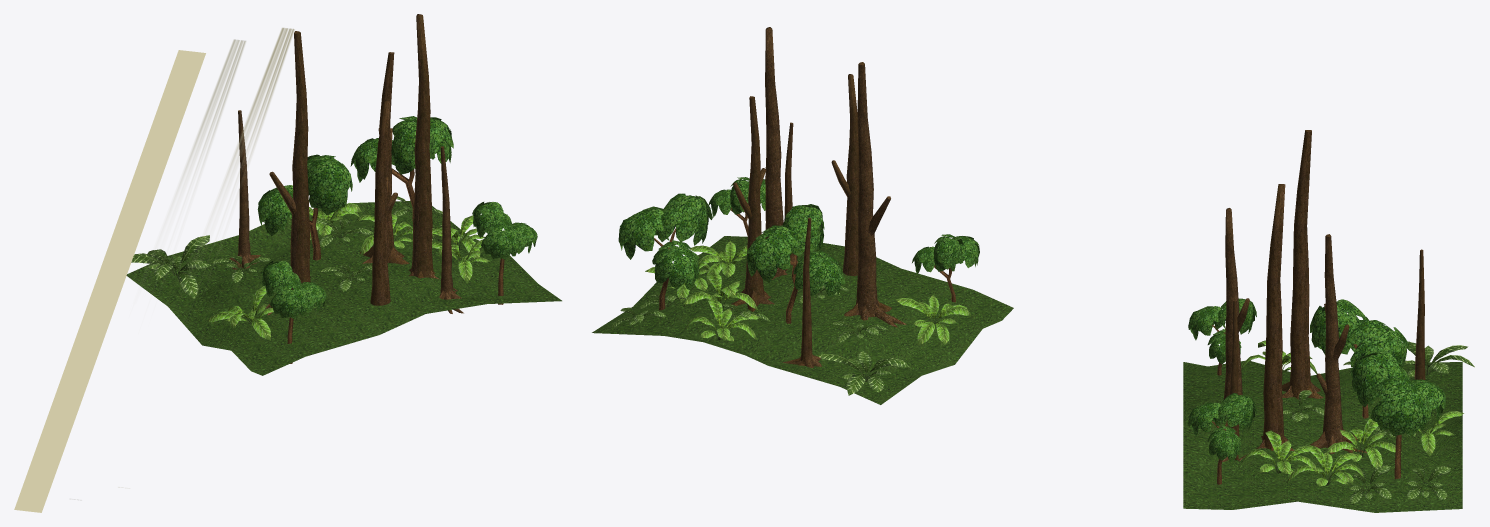
The model's file is runner-game-models--fg-beamtest.glb.
3 views of the same model, side by side, from view 1: azimuth 30°, elevation 25°; view 2: azimuth 150°, elevation 25°; view 3: azimuth 270°, elevation 25° (orthographic). The views are drawn at different scales.
Visible parts, largest first — view 1: FG_Segment_01_VEGETATION, FG_Segment_01, GodRays.c, GodRays, GodRays.b; view 2: FG_Segment_01_VEGETATION, FG_Segment_01; view 3: FG_Segment_01_VEGETATION, FG_Segment_01.
Boxes of the visible parts, box(x1,y1,x2,y2) form: FG_Segment_01_VEGETATION: box(131, 14, 537, 363); FG_Segment_01: box(126, 200, 561, 375); GodRays.c: box(14, 50, 205, 512); GodRays: box(118, 27, 294, 487); GodRays.b: box(74, 39, 246, 499); FG_Segment_01_VEGETATION: box(612, 27, 979, 395); FG_Segment_01: box(592, 236, 1013, 404); FG_Segment_01_VEGETATION: box(1188, 130, 1474, 503); FG_Segment_01: box(1183, 360, 1462, 512).
Bounding box in the file's own units: 33.47 × 28.93 × 16.78.
Materials: 5 (4 with a texture image).
